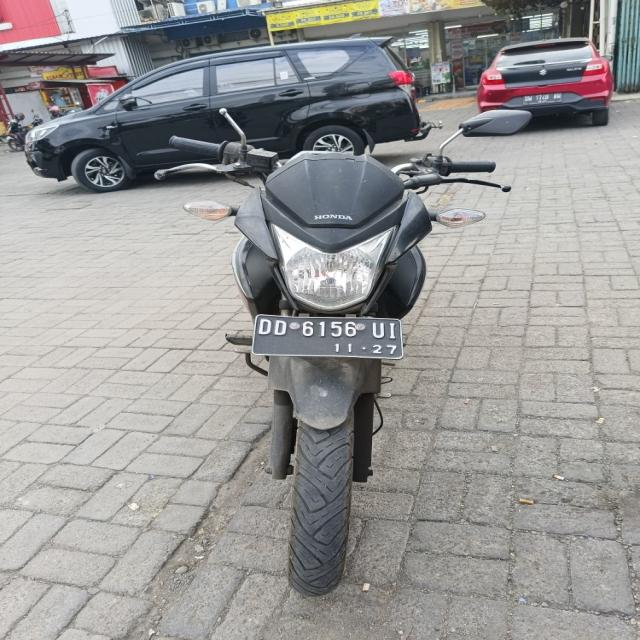plates: (254, 314, 407, 366)
